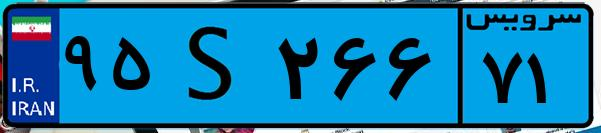1: (525, 38, 570, 115)
2: (270, 28, 330, 110)
5: (110, 28, 158, 98)
6: (385, 28, 445, 110), (330, 28, 385, 110)
7: (475, 38, 525, 113)
9: (57, 26, 110, 100)
S: (158, 12, 270, 120)
